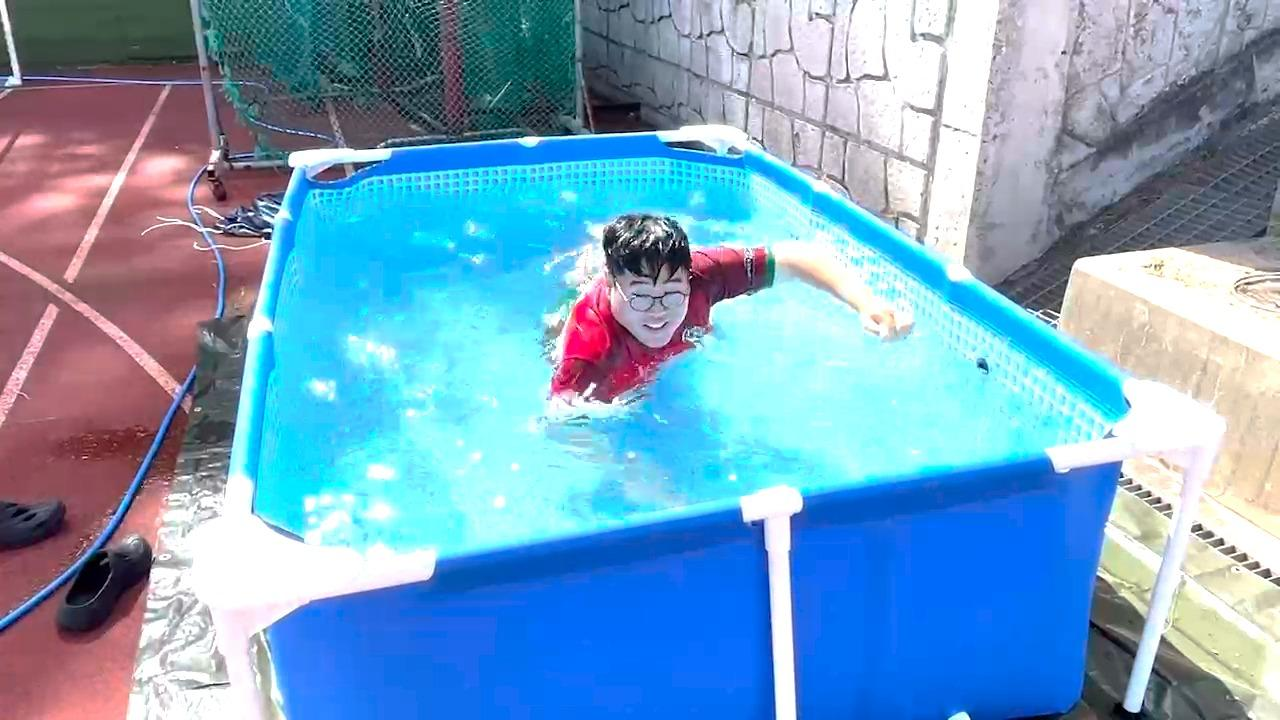Swimming: (551, 176, 900, 446)
